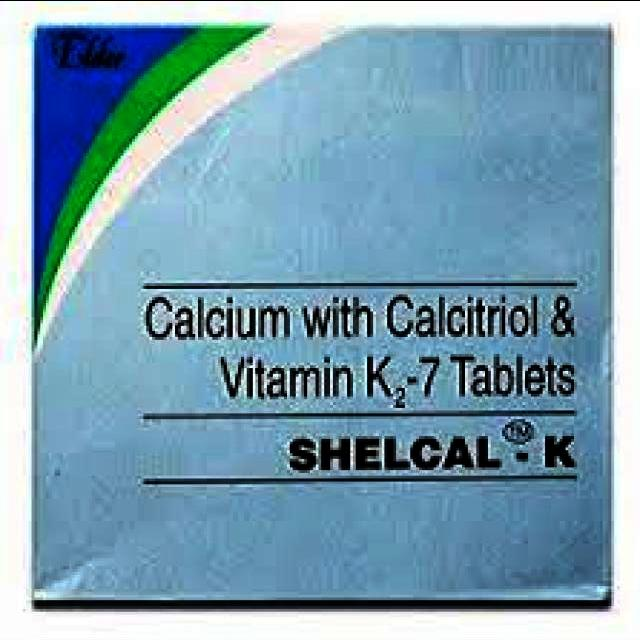authentic: (22, 20, 621, 620)
